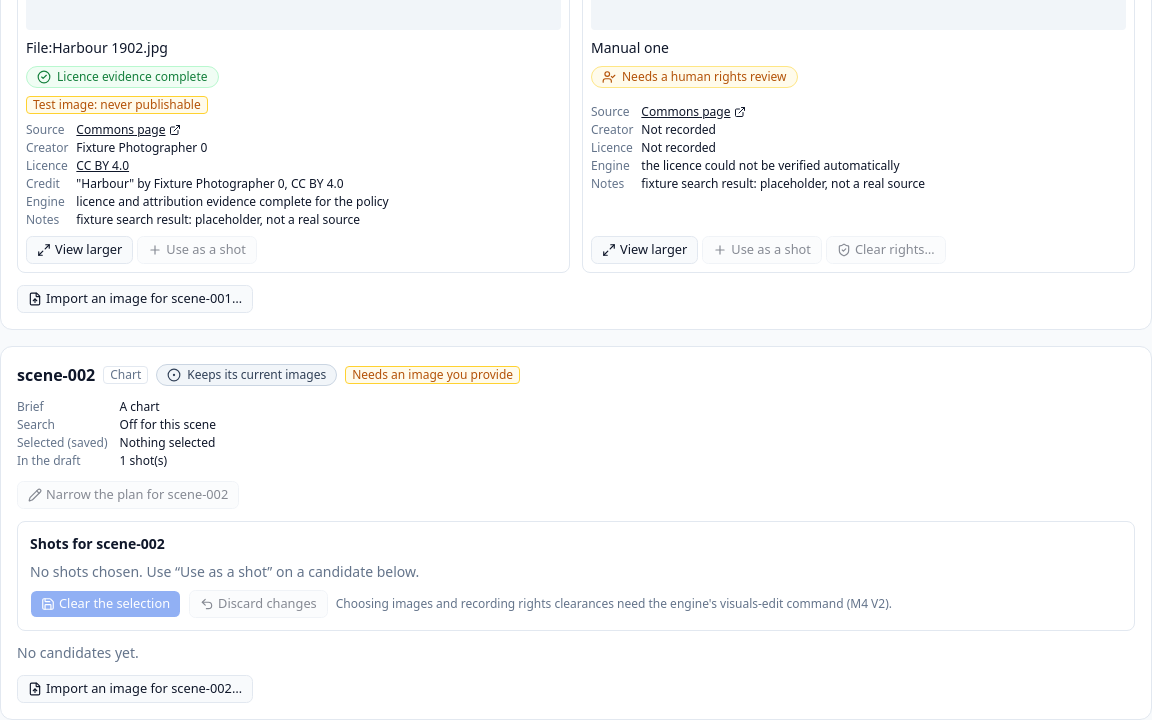
it: visuals workspace › uploads an import with every text field before the file
Later steps or results of the test are not shown.
(page scrolled)
Step 1. Click the button "Import an image for scene-002…" → x=135, y=689, box 17,675 -> 253,703
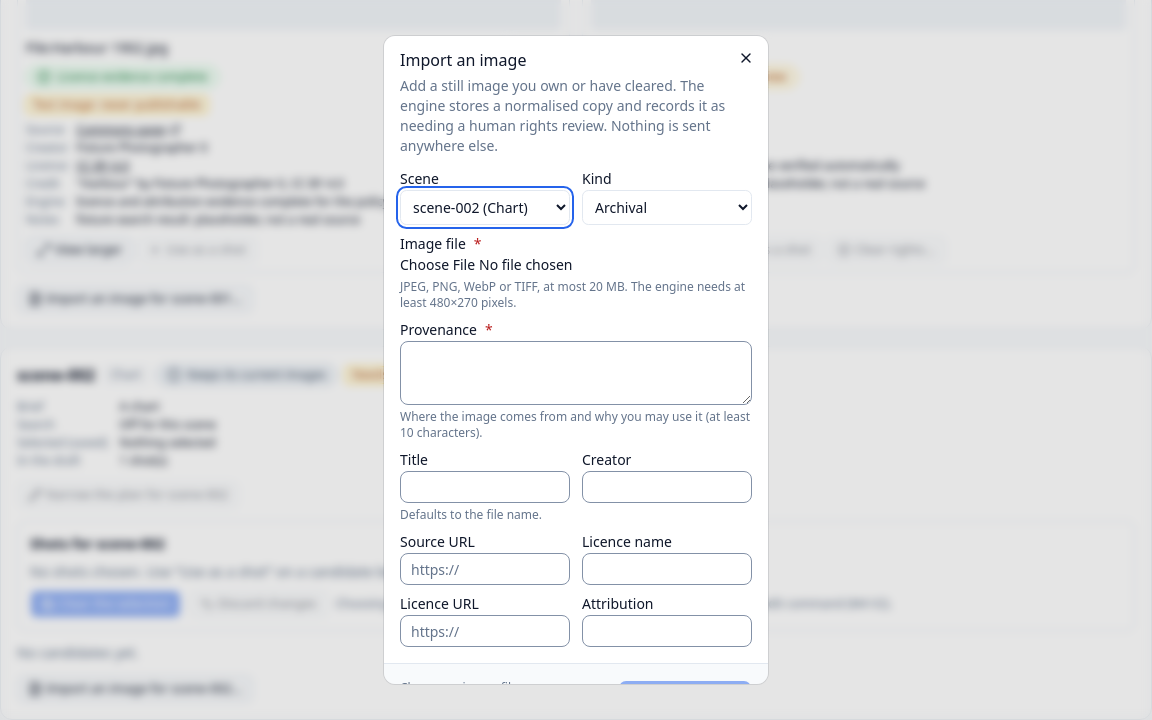
Check: the dropdown labelled "Scene" shows "scene-002 (Chart)", box 400,190 -> 570,225
